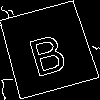B: (23, 24, 70, 78)
